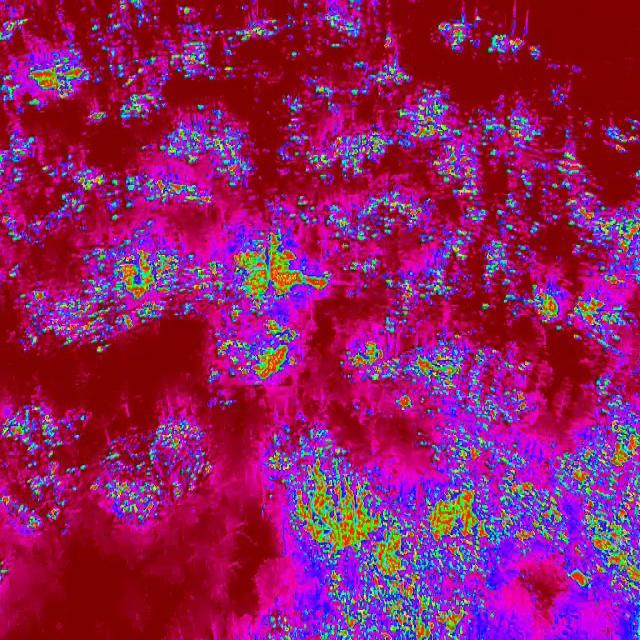fire: (262, 411, 640, 640), (408, 83, 640, 411), (212, 0, 406, 386), (0, 0, 131, 341), (0, 397, 219, 533), (130, 0, 214, 325), (437, 13, 543, 62)
